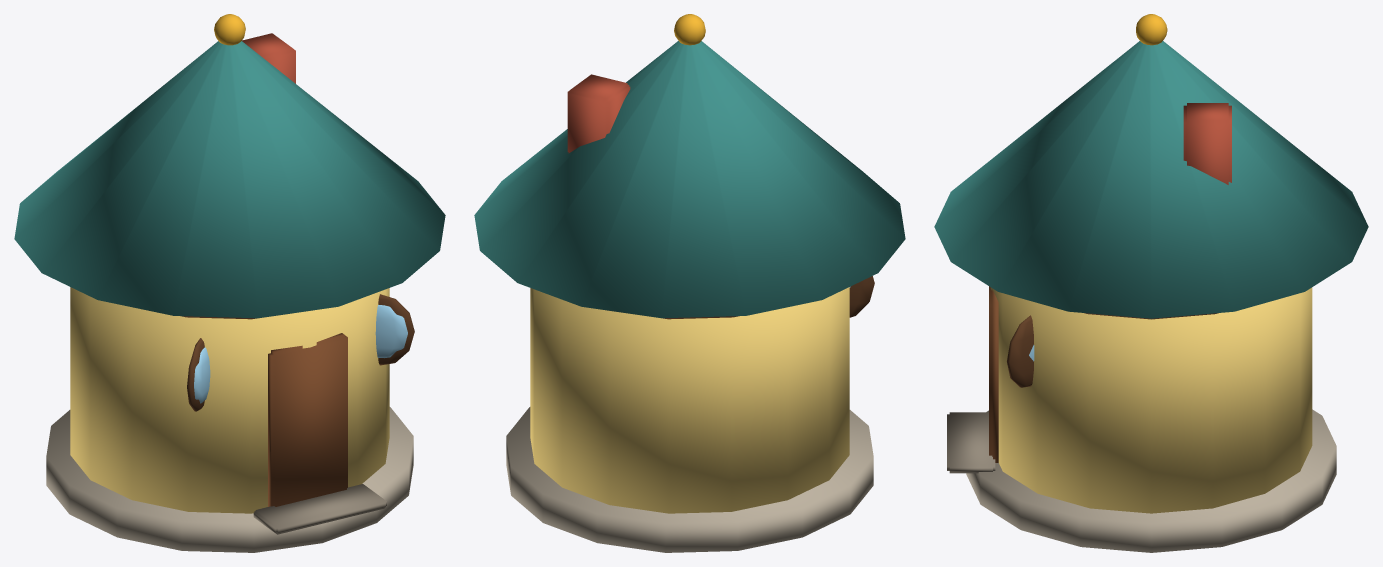
Rendered from casa-b.glb.
3 renders of one model, left to right at view 1: azimuth 30°, elevation 25°; view 2: azimuth 150°, elevation 25°; view 3: azimuth 270°, elevation 25°, orthographic.
Parts seen in each view (by area): view 1: CasaB; view 2: CasaB; view 3: CasaB.
Boxes of the visible parts, box(x1,y1,x2,y2) form: CasaB: box(14, 14, 445, 552); CasaB: box(474, 14, 905, 552); CasaB: box(934, 14, 1368, 552).
Bounding box in the file's own units: 2.7 × 3.15 × 2.7.
